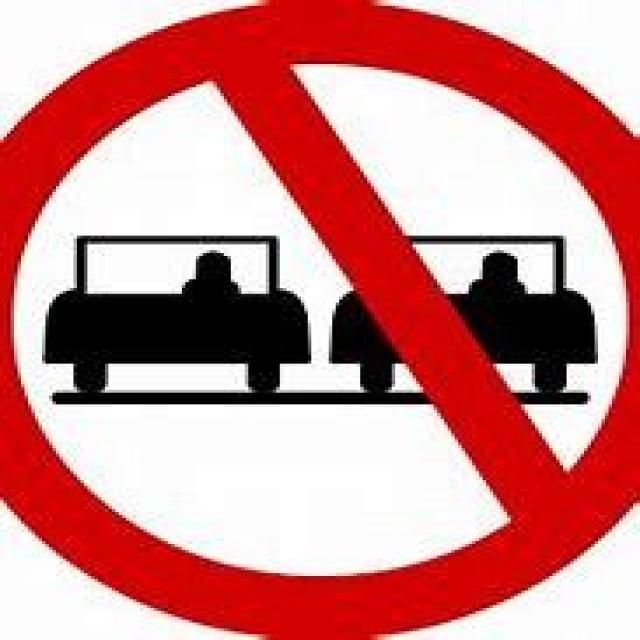no_stop: (0, 0, 637, 637)
